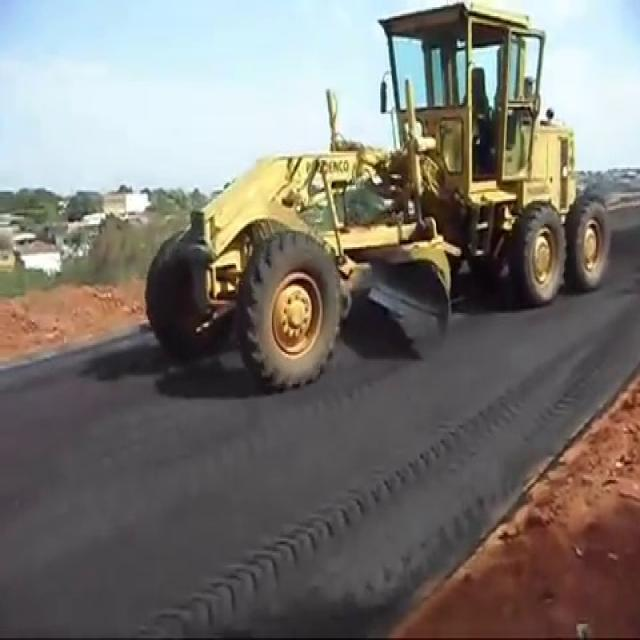buldozerpayloadergrader: (144, 1, 613, 378)
